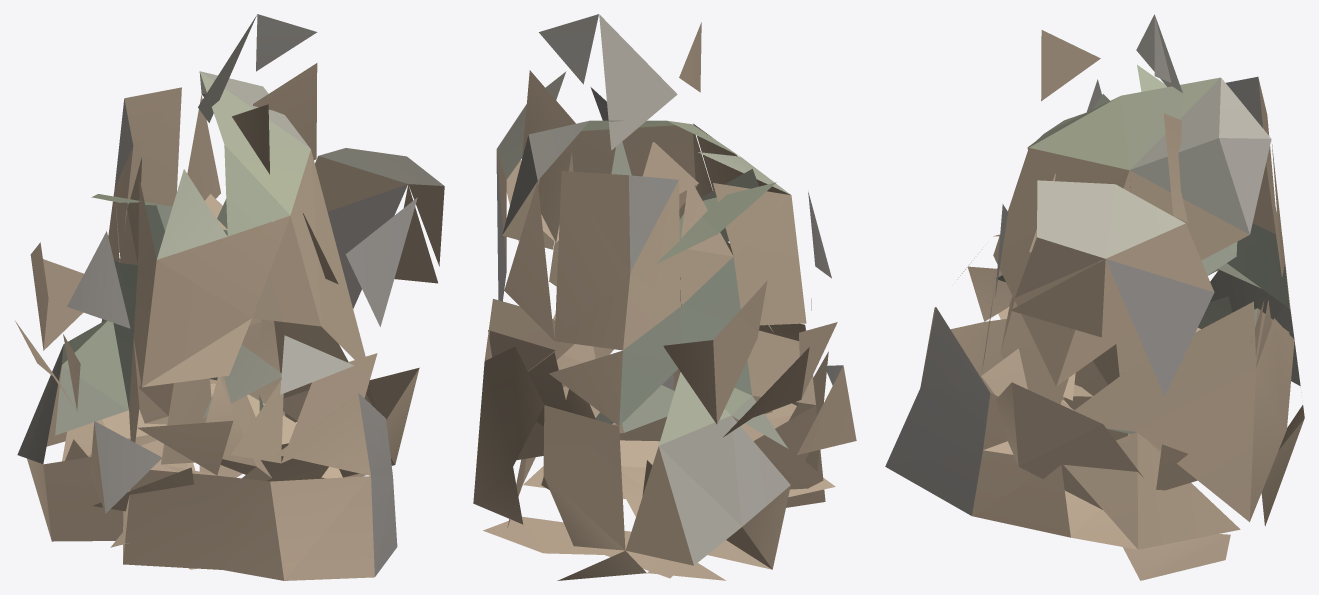
File: mesa_2.lod.glb
3 renders of one model, left to right at view 1: azimuth 30°, elevation 25°; view 2: azimuth 150°, elevation 25°; view 3: azimuth 270°, elevation 25°, orthographic.
Visible parts, largest first — view 1: mesa_2; view 2: mesa_2; view 3: mesa_2.
Boxes of the visible parts, x1=… form: mesa_2: x1=15, y1=14, x2=444, y2=580; mesa_2: x1=473, y1=14, x2=856, y2=580; mesa_2: x1=885, y1=14, x2=1304, y2=580.
Bounding box in the file's own units: 20.02 × 28.36 × 20.5.
